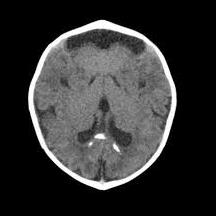Normal_Brain: (1, 1, 208, 209)
